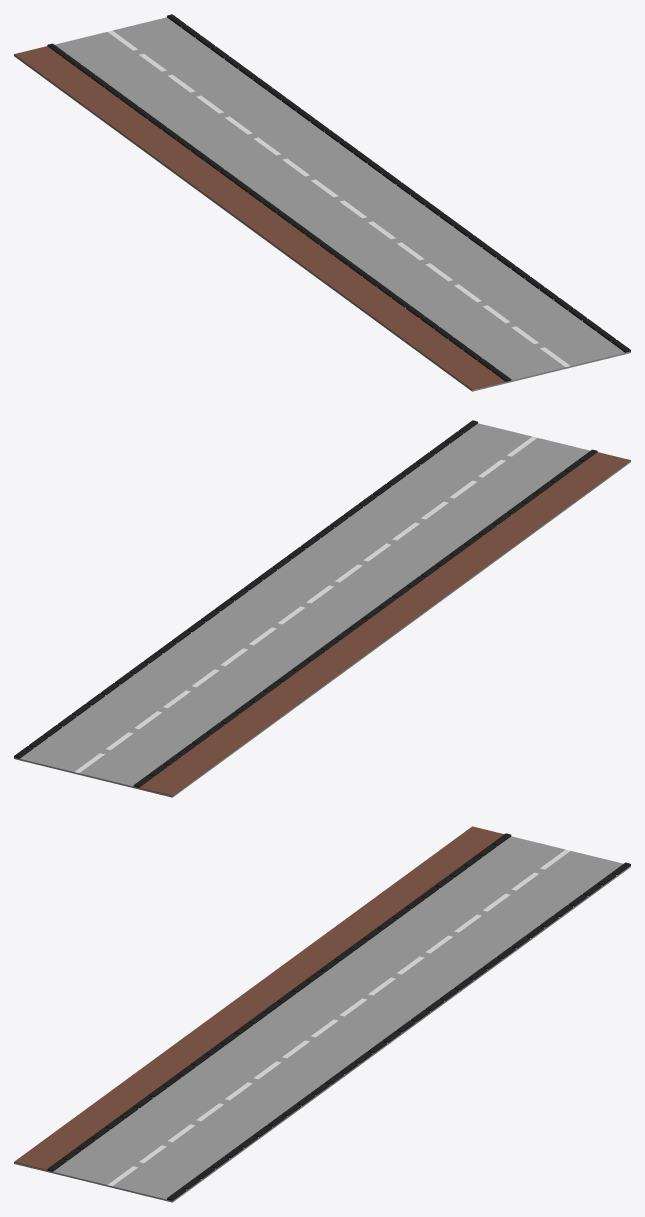
The model's file is road.fbx.
3 views of the same model, one above another, from view 1: azimuth 30°, elevation 25°; view 2: azimuth 150°, elevation 25°; view 3: azimuth 330°, elevation 25° (orthographic).
Parts seen in each view (by area): view 1: Plane; view 2: Plane; view 3: Plane.
Part boxes in pixels (box(x1,y1,x2,y2)): Plane: box(14, 14, 630, 391); Plane: box(14, 420, 630, 797); Plane: box(14, 826, 630, 1202).
Size of the model in its own units: 200 by 4.41 by 1001.
